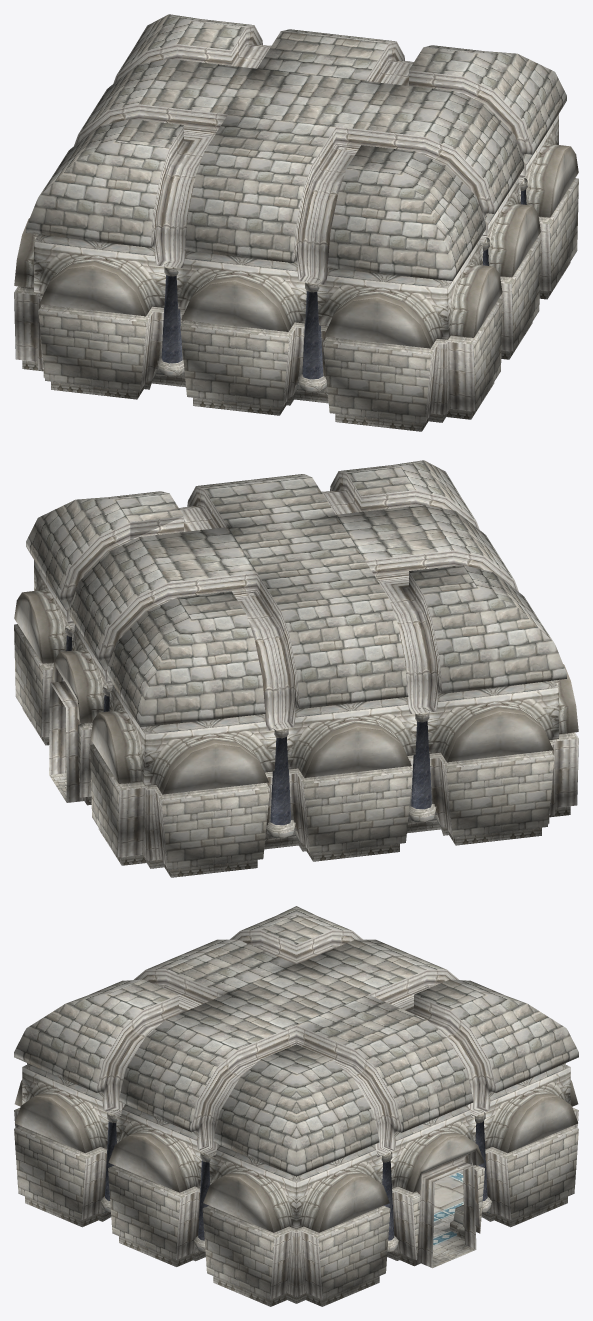
File: stormwind_177.fbx
The picture shows the model from 3 angles, top to bottom: view 1: azimuth 30°, elevation 25°; view 2: azimuth 150°, elevation 25°; view 3: azimuth 270°, elevation 25°; orthographic projection. The views are drawn at different scales.
Parts seen in each view (by area): view 1: stormwind_177_165, stormwind_177_166, stormwind_177_168, stormwind_177_164, stormwind_177_169; view 2: stormwind_177_165, stormwind_177_166, stormwind_177_168, stormwind_177_164, stormwind_177_169; view 3: stormwind_177_165, stormwind_177_166, stormwind_177_168, stormwind_177_164, stormwind_177_169, stormwind_177_47, stormwind_177_167.
Part boxes in pixels (box(x1,y1,x2,y2)): stormwind_177_165: box(26, 14, 566, 280); stormwind_177_166: box(14, 25, 578, 431); stormwind_177_168: box(14, 114, 578, 348); stormwind_177_164: box(38, 179, 578, 423); stormwind_177_169: box(161, 189, 526, 379); stormwind_177_165: box(26, 460, 566, 726); stormwind_177_166: box(14, 471, 578, 877); stormwind_177_168: box(14, 560, 578, 794); stormwind_177_164: box(14, 625, 554, 869); stormwind_177_169: box(66, 635, 431, 825); stormwind_177_165: box(14, 906, 578, 1176); stormwind_177_166: box(14, 930, 578, 1306); stormwind_177_168: box(14, 1067, 578, 1232); stormwind_177_164: box(14, 1129, 578, 1299); stormwind_177_169: box(105, 1121, 487, 1240); stormwind_177_47: box(433, 1176, 464, 1257); stormwind_177_167: box(433, 1171, 463, 1246).
Size of the model in its own units: 52.53 by 20.27 by 52.53.
